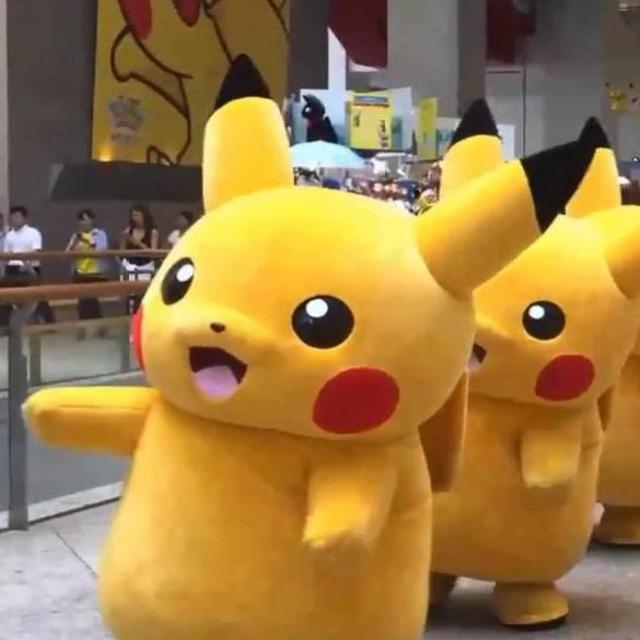pikachu: (21, 47, 598, 640), (426, 97, 640, 631)
